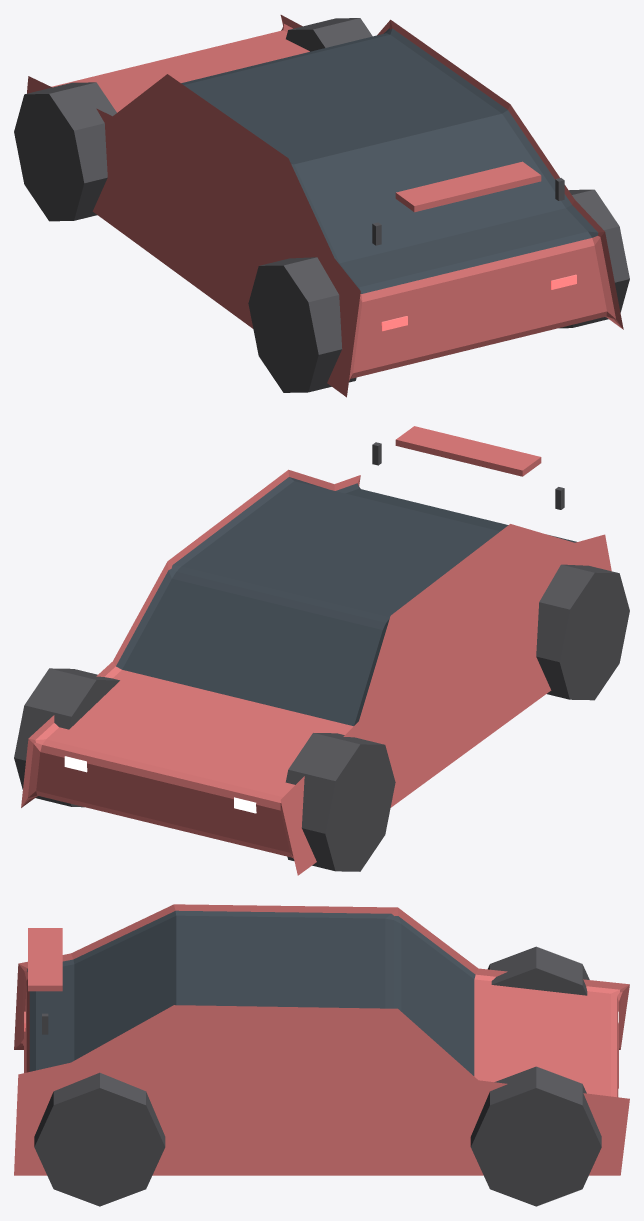
Rendered from car_0_rally_hatch.glb.
3 renders of one model, top to bottom at view 1: azimuth 30°, elevation 25°; view 2: azimuth 150°, elevation 25°; view 3: azimuth 270°, elevation 25°, orthographic. The views are drawn at different scales.
Visible parts, largest first — view 1: car_0_rally_hatch_body, Arch, Arch.002, Spoiler, Arch.003, Arch.001; view 2: car_0_rally_hatch_body, Arch, Arch.002, Arch.001, Spoiler; view 3: car_0_rally_hatch_body, Arch.001, Arch.003, Arch, Spoiler.
Boxes of the visible parts, x1=… form: car_0_rally_hatch_body: x1=27, y1=15, x2=623, y2=397; Arch: x1=14, y1=82, x2=116, y2=221; Arch.002: x1=248, y1=257, x2=356, y2=392; Spoiler: x1=395, y1=161, x2=541, y2=212; Arch.003: x1=559, y1=189, x2=629, y2=328; Arch.001: x1=286, y1=18, x2=372, y2=51; car_0_rally_hatch_body: x1=21, y1=469, x2=611, y2=875; Arch: x1=285, y1=733, x2=395, y2=871; Arch.002: x1=536, y1=564, x2=629, y2=700; Arch.001: x1=14, y1=668, x2=119, y2=807; Spoiler: x1=395, y1=426, x2=541, y2=476; car_0_rally_hatch_body: x1=14, y1=904, x2=629, y2=1175; Arch.001: x1=470, y1=1066, x2=601, y2=1206; Arch.003: x1=34, y1=1072, x2=165, y2=1206; Arch: x1=488, y1=946, x2=589, y2=995; Spoiler: x1=28, y1=928, x2=62, y2=991.
Bounding box in the file's own units: 1.84 × 1.1 × 3.39.
